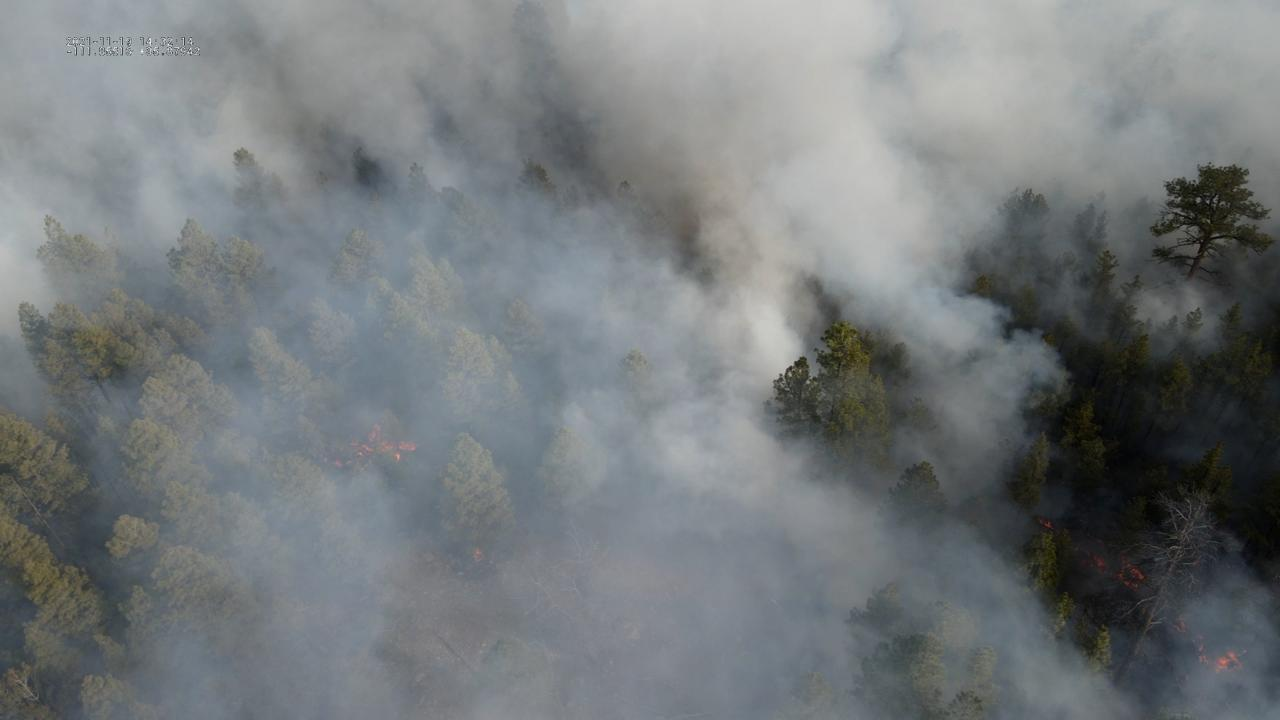fire: (347, 423, 417, 464), (1112, 549, 1146, 594), (1211, 648, 1244, 678), (1077, 549, 1107, 574), (1190, 636, 1210, 668), (471, 547, 486, 563), (1038, 517, 1056, 530), (328, 459, 342, 469)
smoke: (0, 0, 1280, 720)
